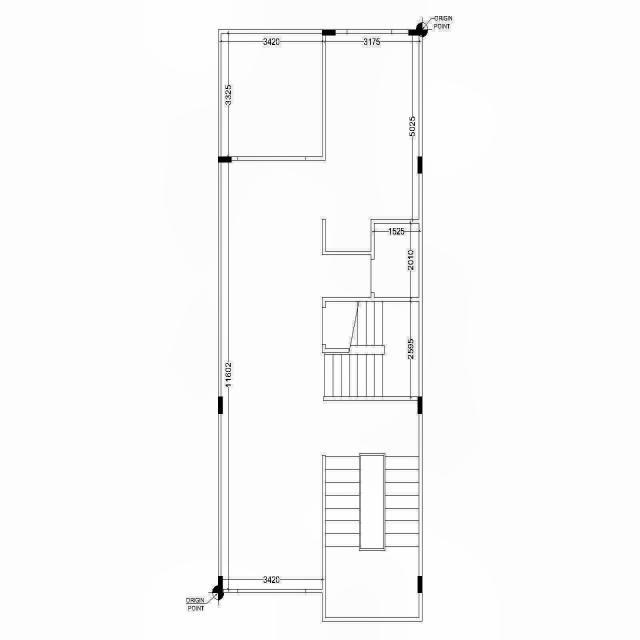Column: (218, 396, 223, 414), (218, 576, 223, 593), (408, 30, 422, 36), (218, 156, 232, 162), (322, 30, 336, 36), (418, 156, 422, 174), (418, 396, 422, 414), (418, 576, 422, 593)
Staircase: (321, 451, 424, 624), (320, 295, 420, 403)
